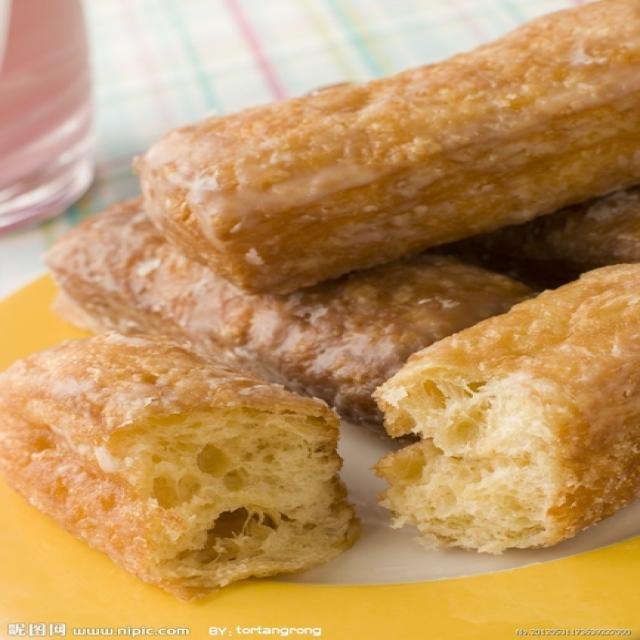炸货点心: (25, 23, 603, 604)
